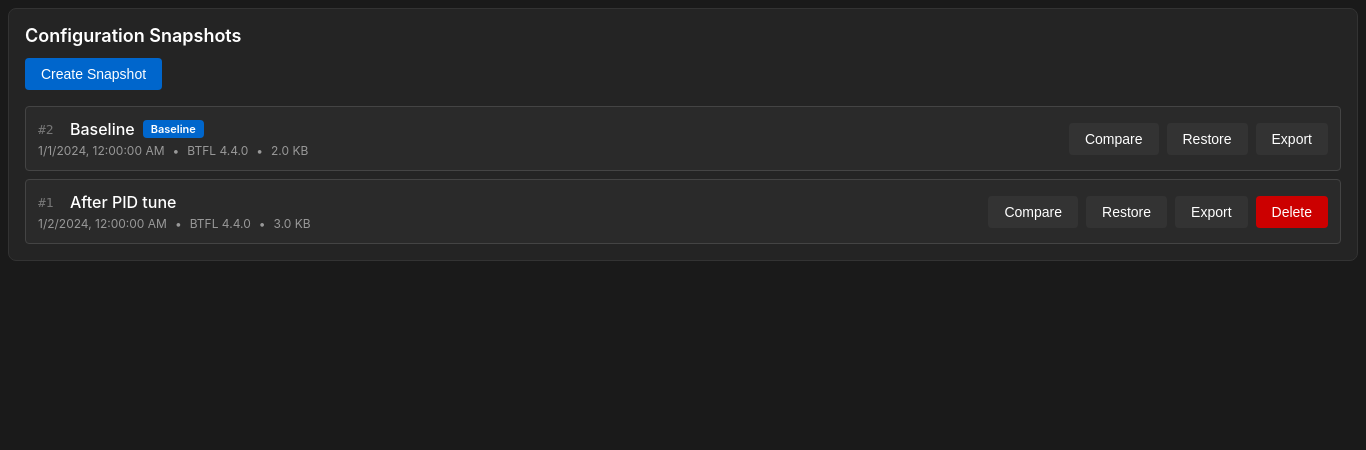
Test case: SnapshotManager › shows error when restore fails
expect the text "After PID tune" is shown: met, box [70,192,176,212]
Click the button "Restore" in the row of "2.0 KB": click(1207, 138) [1166,122,1248,154]
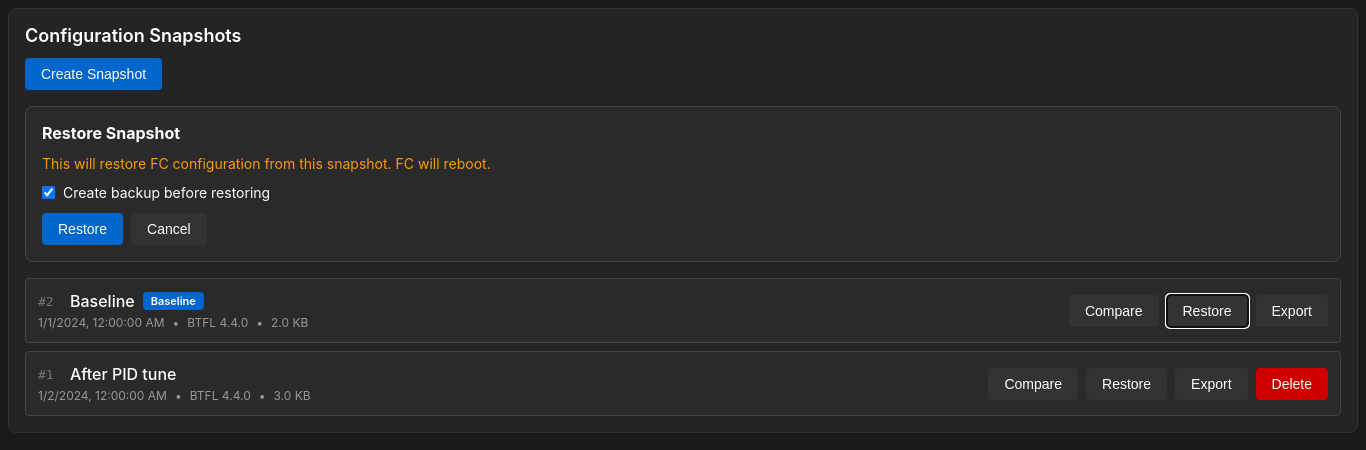
Click the button "Restore" below "Create backup before restoring": click(82, 229) [42,213,123,245]
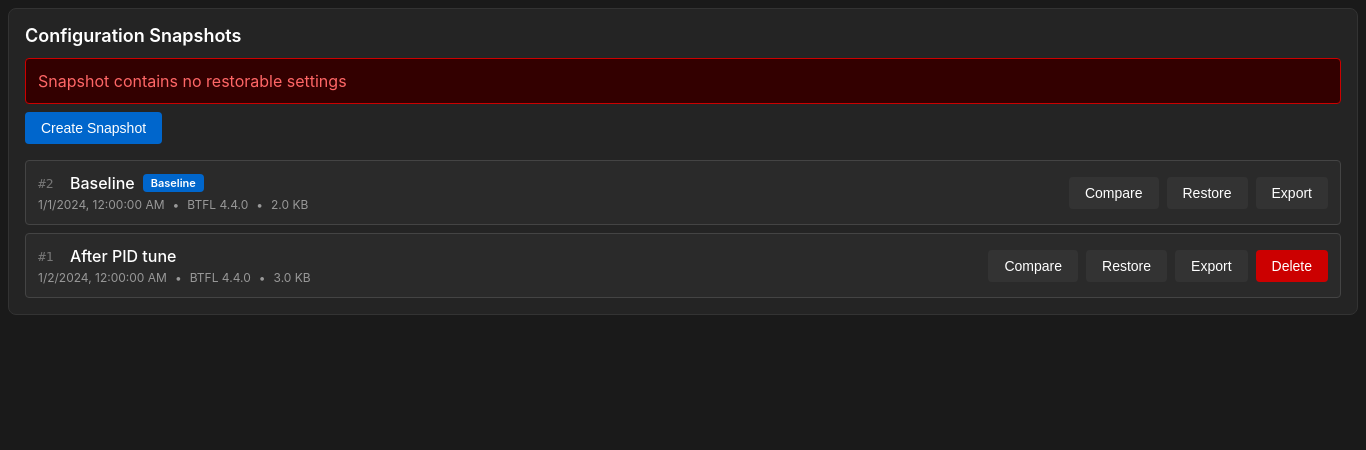
expect the text "Snapshot contains no restorable settings" is shown: met, box [25,58,1341,104]
